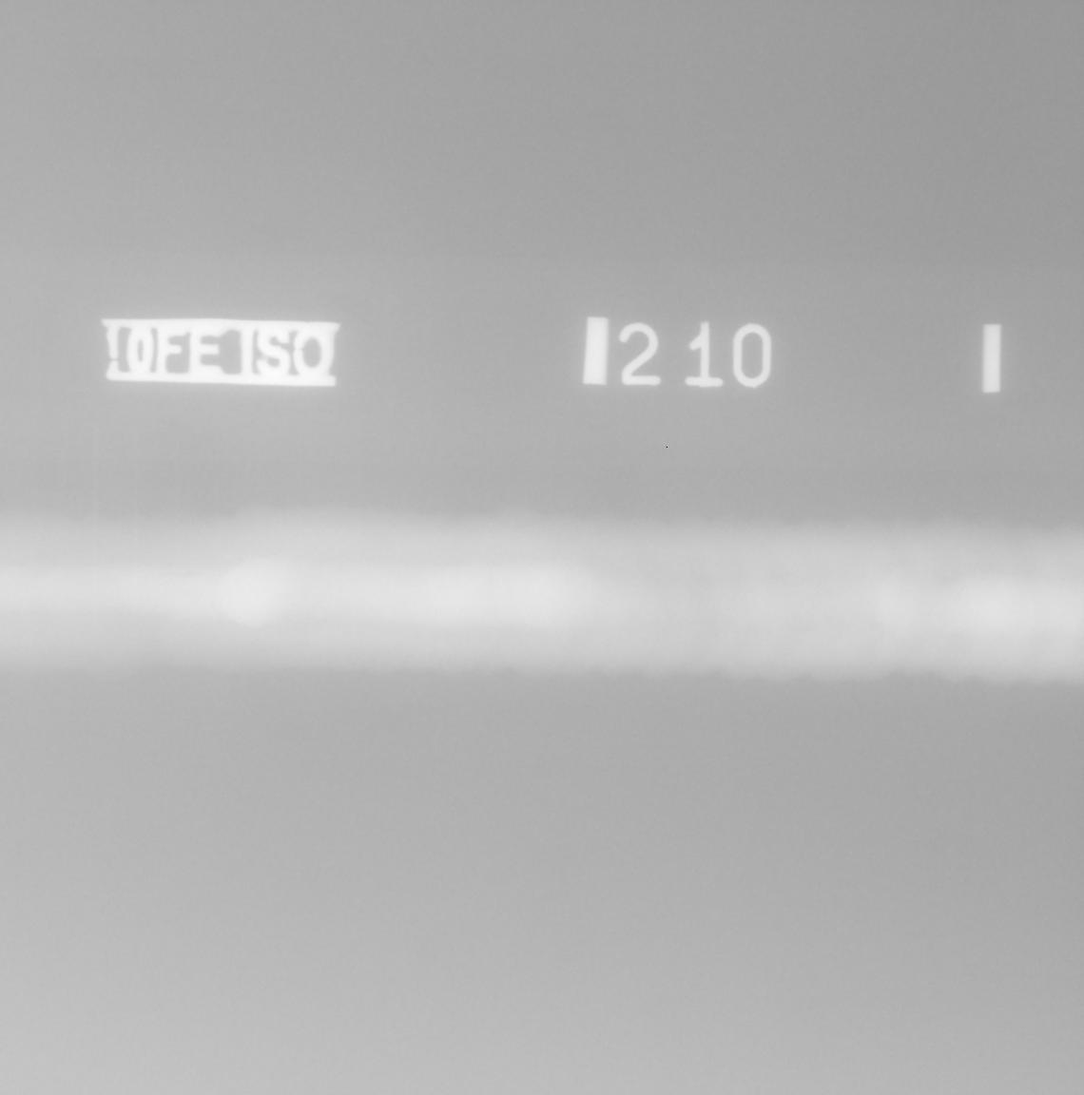Inclusion: (169, 573, 201, 577)
